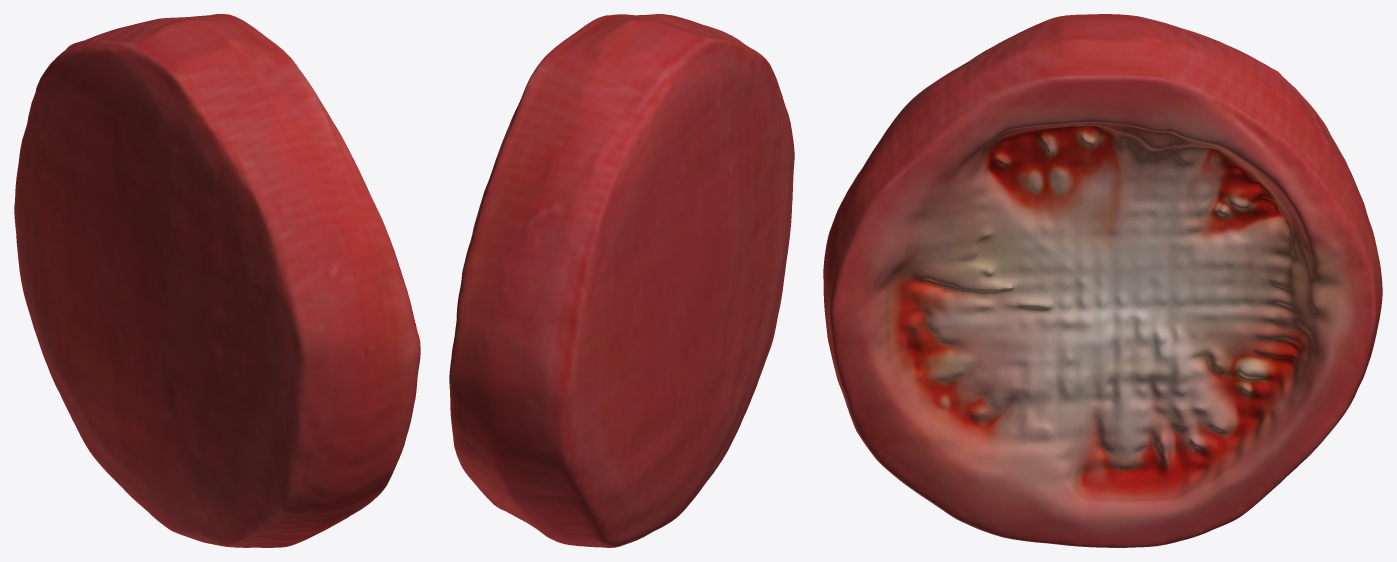
The model's file is Tomato.fbx.
The picture shows the model from 3 angles, left to right: view 1: azimuth 30°, elevation 25°; view 2: azimuth 150°, elevation 25°; view 3: azimuth 270°, elevation 25°; orthographic projection. The views are drawn at different scales.
Parts seen in each view (by area): view 1: high_poly; view 2: high_poly; view 3: high_poly.
Part boxes in pixels (x1,y1,x2,y2): high_poly: (14,14,420,547); high_poly: (449,14,794,547); high_poly: (823,14,1382,547).
Size of the model in its own units: 32.97 by 98.6 by 100.
